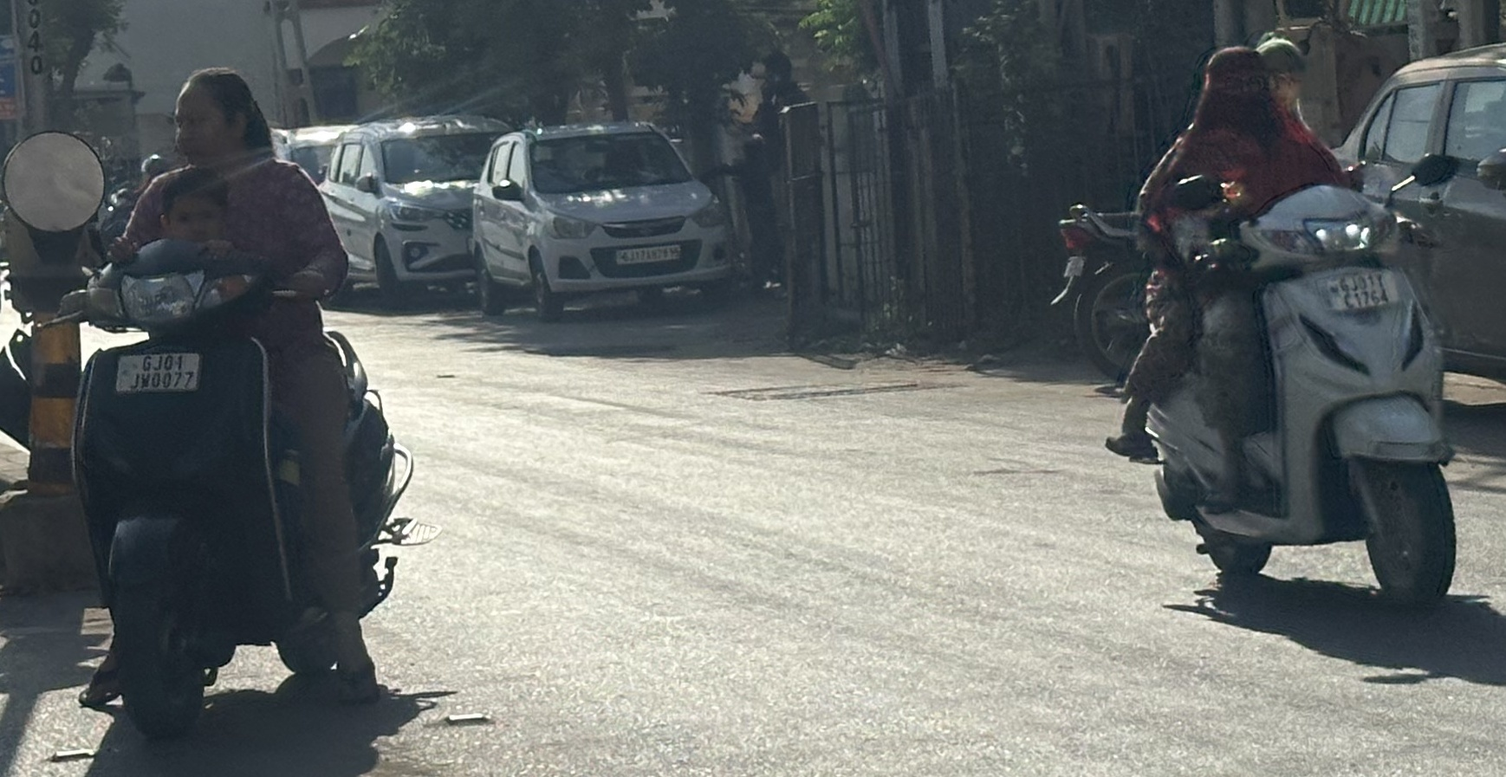BikeWithRider: (38, 57, 433, 749), (1074, 30, 1477, 621)
NoHelmet: (160, 59, 277, 172), (1183, 38, 1292, 140)
